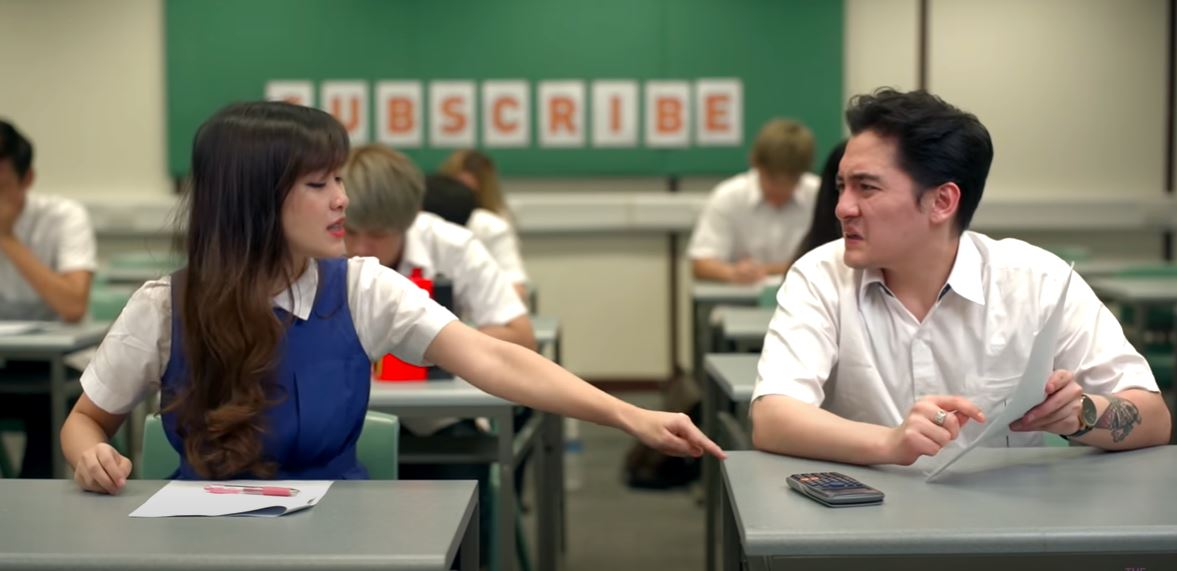chit: (596, 379, 727, 501)
student: (782, 116, 1118, 472), (156, 141, 437, 488)
